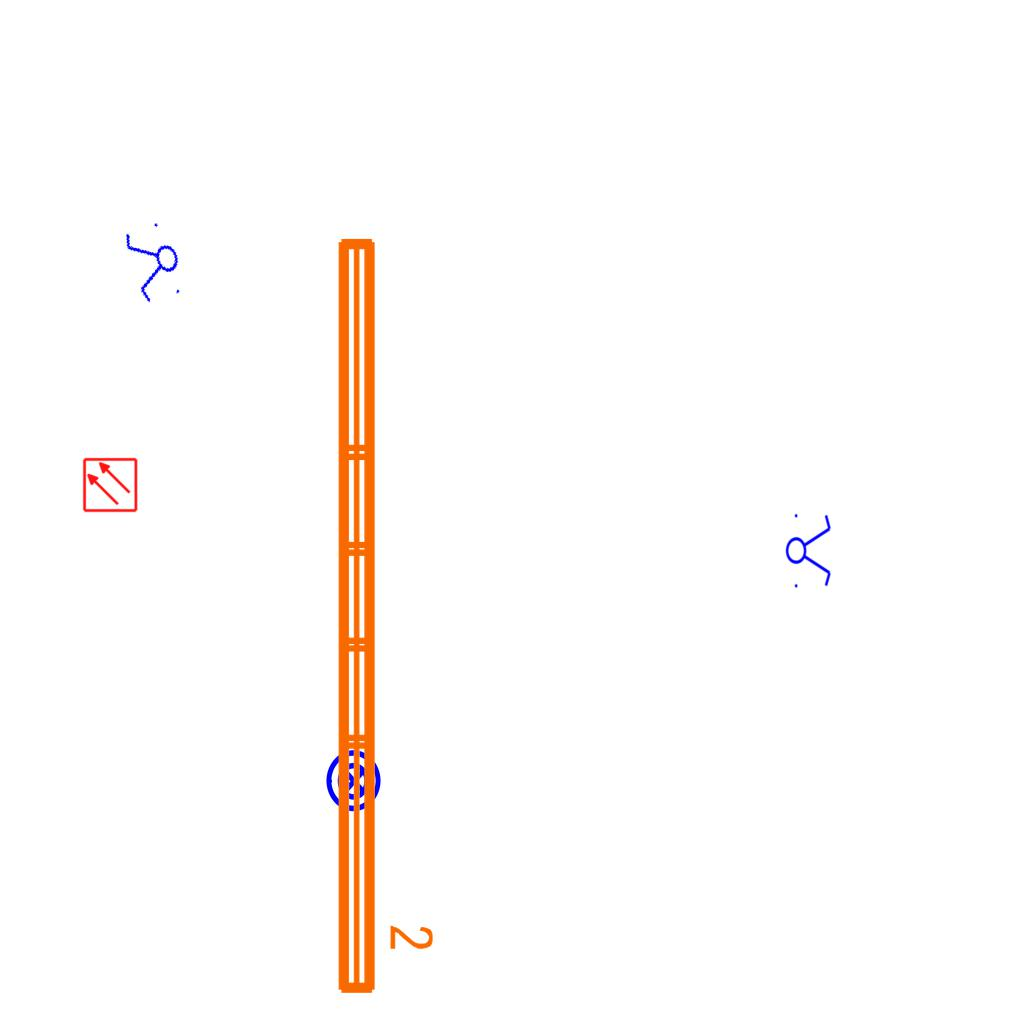Ambulanz_Pendelleuchte_LED: (326, 228, 438, 1002)
RMO_Rauchmelder_optischer: (82, 457, 138, 513)
Serienschalter: (119, 215, 191, 311), (785, 508, 833, 592)
Taster_beleuchtet: (321, 748, 387, 814)
